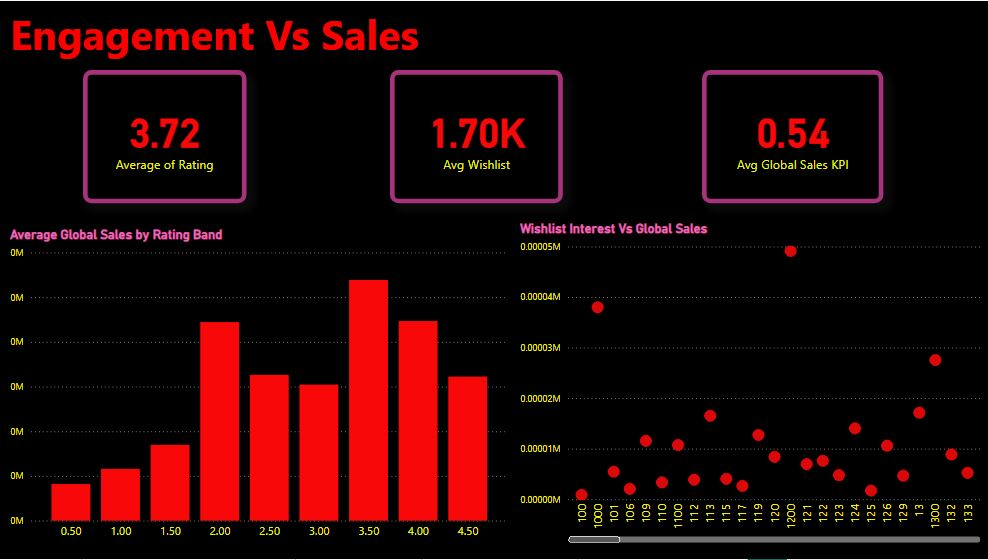

Layout of this report page (visuals, bound fields, positions):
{"tool":"powerbi","page":{"name":"Engagement Vs Sales","canvas":[1280,720],"ordinal":3},"visuals":[{"type":"textbox","box":[10.7,0,652.5,89.4],"z":0},{"type":"clusteredColumnChart","title":"Average Global Sales by Rating Band","fields":{"Category":["video_game_analysis games_clean.Rating (bins) 2"],"Y":["video_game_analysis vgsales_clean.Avg Global Sales"]},"box":[10.7,291.4,652.5,413],"z":1000},{"type":"scatterChart","title":"Wishlist Interest Vs Global Sales","fields":{"X":["video_game_analysis games_clean.Wishlist"],"Y":["Sum(video_game_analysis vgsales_clean.Global_Sales)"]},"box":[668.6,284.2,604.2,420.1],"z":2000},{"type":"card","fields":{"Values":["Avg(video_game_analysis games_clean.Rating)"]},"box":[109.1,89.4,210.9,171.6],"z":3000},{"type":"card","fields":{"Values":["video_game_analysis games_clean.Avg Wishlist"]},"box":[505.9,89.4,223.5,171.6],"z":4000},{"type":"card","fields":{"Values":["video_game_analysis vgsales_clean.Avg Global Sales KPI"]},"box":[908.2,89.4,234.2,171.6],"z":5000}]}

Visuals, with their boxes in screenshot pixels (x1, y1, x2, y2), scaled from the page's 1280x720 canvas onto the 988x560 screenshot:
textbox: crop(8, 0, 512, 70)
"Average Global Sales by Rating Band" clusteredColumnChart: crop(8, 227, 512, 548)
"Wishlist Interest Vs Global Sales" scatterChart: crop(516, 221, 982, 548)
card - Avg(video_game_analysis games_clean.Rating): crop(84, 70, 247, 203)
card - video_game_analysis games_clean.Avg Wishlist: crop(390, 70, 563, 203)
card - video_game_analysis vgsales_clean.Avg Global Sales KPI: crop(701, 70, 882, 203)
